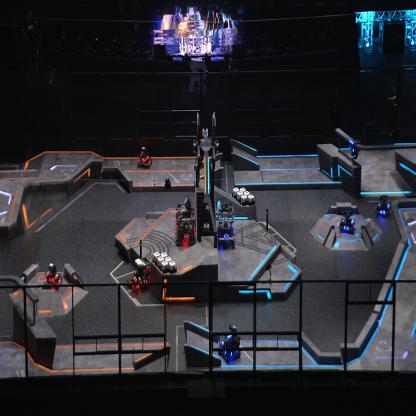car: (217, 321, 242, 363), (216, 200, 235, 251), (174, 203, 196, 247), (126, 257, 152, 294), (43, 262, 62, 290), (339, 210, 356, 233), (136, 146, 152, 168), (376, 194, 390, 218)
